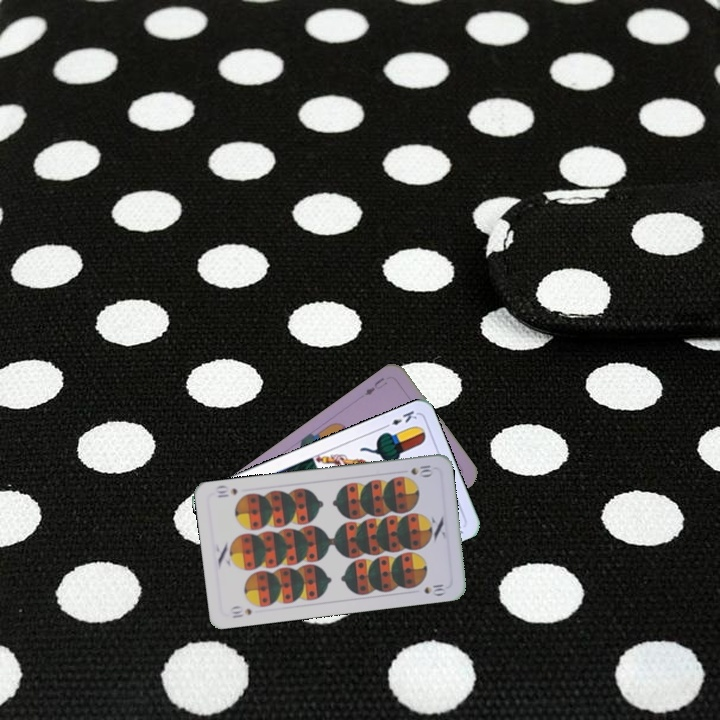EK: (379, 406, 420, 431)
EU: (360, 373, 390, 398)
S10: (407, 461, 436, 479), (226, 602, 254, 620)
